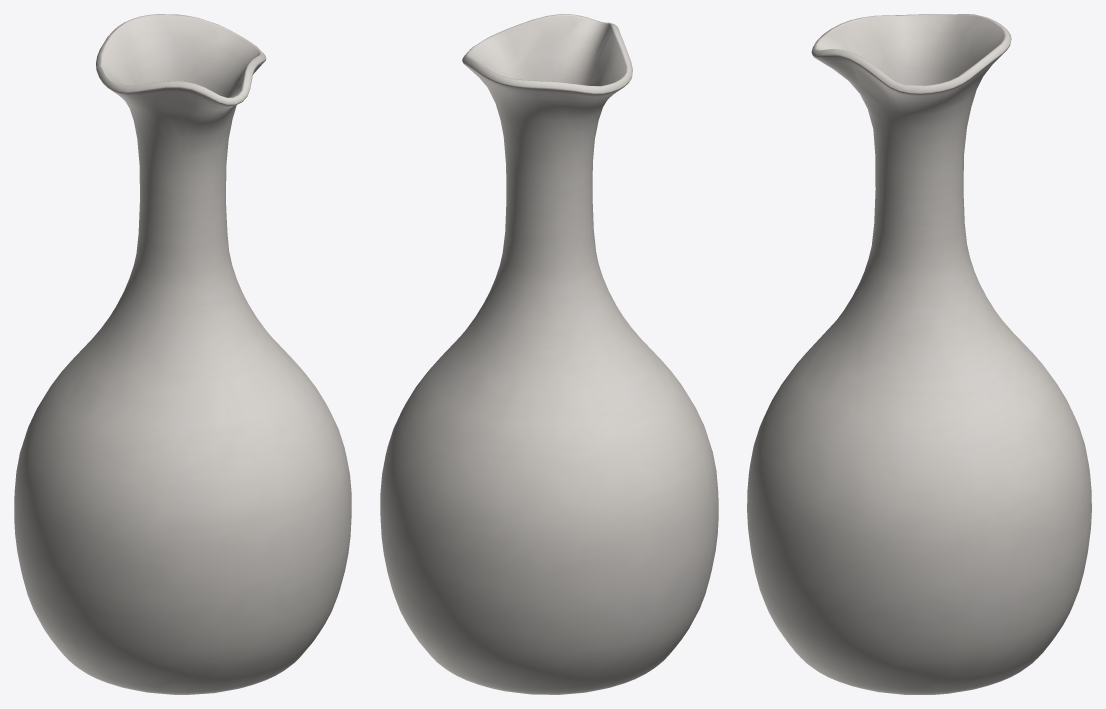
Rendered from ceramic_vase_01.glb.
3 renders of one model, left to right at view 1: azimuth 30°, elevation 25°; view 2: azimuth 150°, elevation 25°; view 3: azimuth 270°, elevation 25°, orthographic. The views are drawn at different scales.
Visible parts, largest first — view 1: ceramic_vase_01; view 2: ceramic_vase_01; view 3: ceramic_vase_01.
Part boxes in pixels (left/top/right/bottom): ceramic_vase_01: left=14, top=14, right=351, bottom=694; ceramic_vase_01: left=380, top=14, right=718, bottom=694; ceramic_vase_01: left=747, top=14, right=1091, bottom=694.
Size of the model in its own units: 0.2036 by 0.4003 by 0.2036.
1 material, 1 textured.
